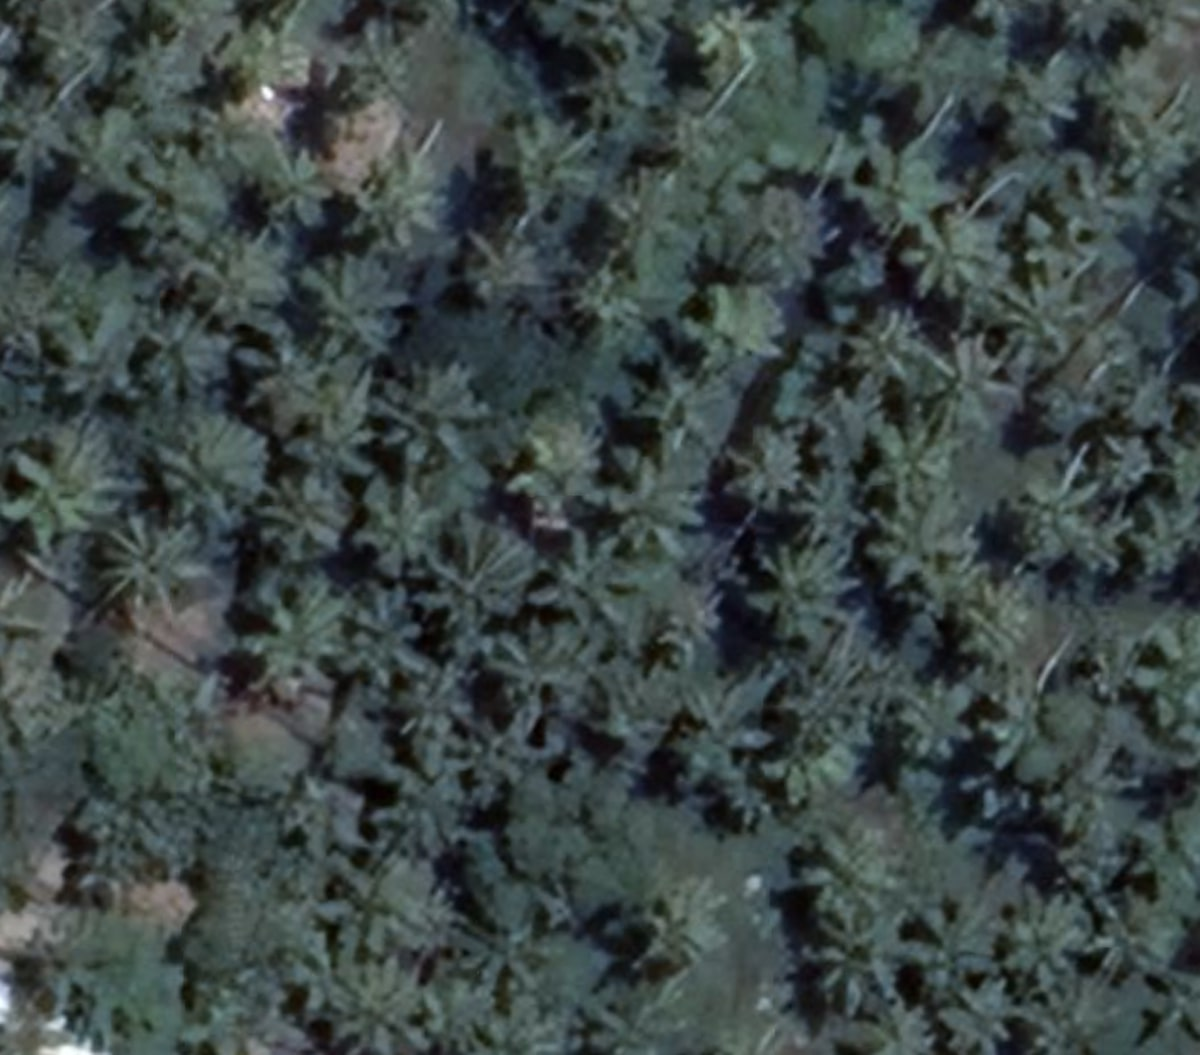coconut: (667, 687, 783, 816), (139, 416, 255, 530), (484, 117, 593, 221), (287, 251, 391, 357), (373, 364, 478, 470), (1, 428, 97, 539), (430, 529, 526, 640), (243, 478, 351, 574), (334, 156, 438, 248), (598, 465, 692, 559), (993, 275, 1089, 367), (828, 302, 924, 391), (107, 529, 201, 619), (245, 584, 332, 679), (536, 522, 616, 624), (452, 216, 544, 304), (228, 147, 321, 228), (729, 414, 808, 509), (867, 418, 952, 507), (912, 204, 986, 302), (331, 962, 411, 1049), (952, 582, 1035, 665), (763, 540, 838, 627), (391, 661, 465, 747), (816, 910, 900, 986), (937, 982, 1008, 1055)
